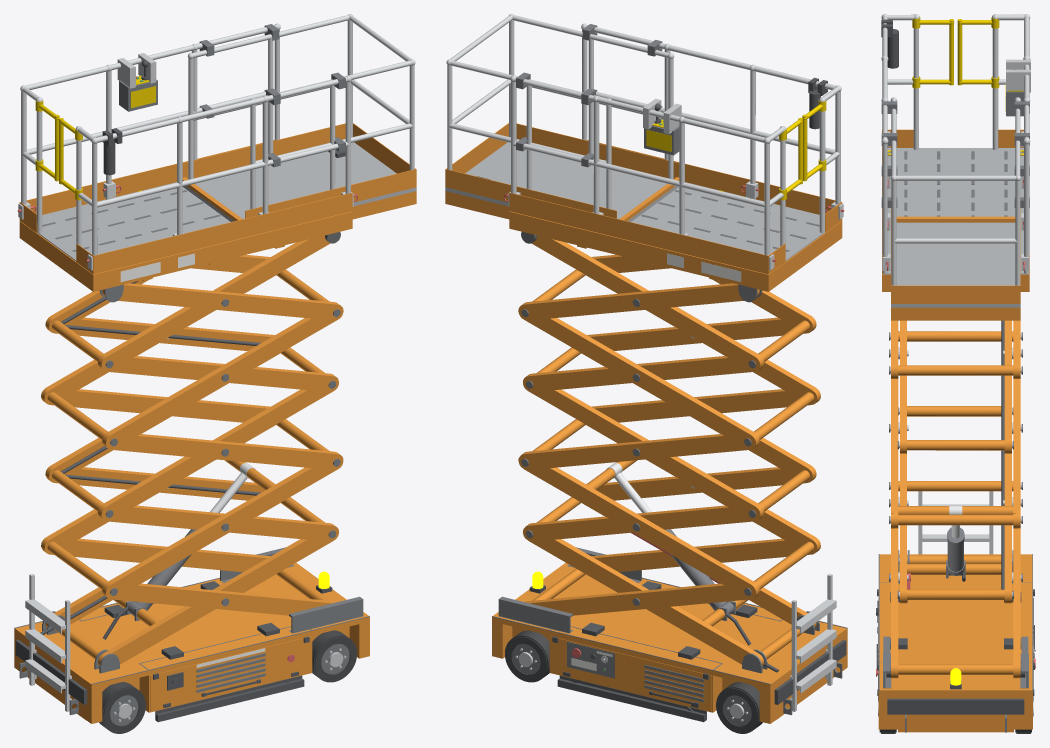
The model's file is Electric_Scissor_Lift_26ft.glb.
3 renders of one model, left to right at view 1: azimuth 30°, elevation 25°; view 2: azimuth 150°, elevation 25°; view 3: azimuth 270°, elevation 25°, orthographic.
Parts seen in each view (by area): view 1: chassis_spine, ladder, deck, deck_edge, bumpers, tyre, entry_gate, ground_toggle, decals; view 2: chassis_spine, ladder, deck, deck_edge, bumpers, tyre, entry_gate, ground_toggle, decals; view 3: chassis_spine, deck, ladder, deck_edge, bumpers, entry_gate, ground_toggle.
Part boxes in pixels (<box>): chassis_spine: <box>14,123,416,723</box>; ladder: <box>18,14,415,711</box>; deck: <box>38,142,416,261</box>; deck_edge: <box>14,24,369,725</box>; bumpers: <box>15,60,345,722</box>; tyre: <box>99,630,356,733</box>; entry_gate: <box>35,75,155,200</box>; ground_toggle: <box>113,53,346,721</box>; decals: <box>120,253,265,667</box>; chassis_spine: <box>445,123,847,723</box>; ladder: <box>446,14,843,711</box>; deck: <box>445,142,823,261</box>; deck_edge: <box>492,24,847,725</box>; bumpers: <box>476,77,846,722</box>; tyre: <box>505,630,762,733</box>; entry_gate: <box>646,100,826,200</box>; ground_toggle: <box>515,98,748,721</box>; decals: <box>571,253,741,670</box>; chassis_spine: <box>878,129,1032,732</box>; deck: <box>883,148,1028,307</box>; ladder: <box>881,14,1030,554</box>; deck_edge: <box>878,91,1033,732</box>; bumpers: <box>876,19,1034,714</box>; entry_gate: <box>887,17,1023,155</box>; ground_toggle: <box>878,59,1035,716</box>.
Bounding box in the file's own units: 59.74 × 101 × 24.24.
